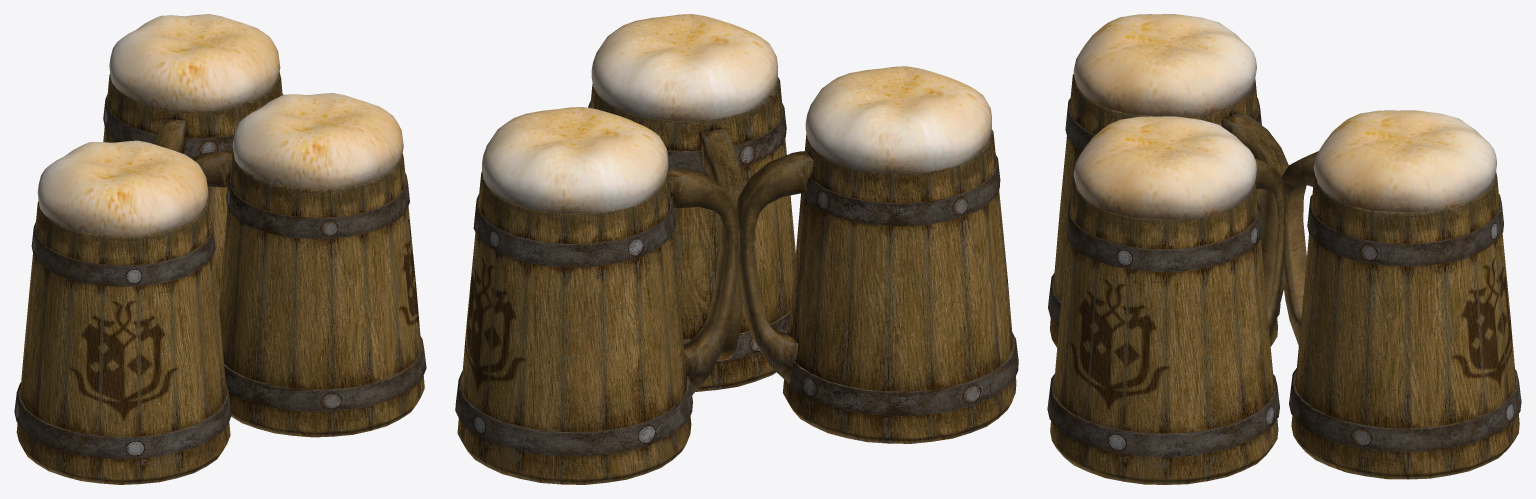
Rendered from sou033.obj.
3 renders of one model, left to right at view 1: azimuth 30°, elevation 25°; view 2: azimuth 150°, elevation 25°; view 3: azimuth 270°, elevation 25°, orthographic. The views are drawn at different scales.
Parts seen in each view (by area): view 1: sou033_000_LOD_1, sou033_003_LOD_1, sou033_007_LOD_1, sou033_001_LOD_1, sou033_004_LOD_1, sou033_006_LOD_1, sou033_008_LOD_1, sou033_002_LOD_1, sou033_005_LOD_1; view 2: sou033_006_LOD_1, sou033_000_LOD_1, sou033_003_LOD_1, sou033_001_LOD_1, sou033_007_LOD_1, sou033_004_LOD_1, sou033_002_LOD_1, sou033_005_LOD_1, sou033_008_LOD_1; view 3: sou033_006_LOD_1, sou033_003_LOD_1, sou033_004_LOD_1, sou033_007_LOD_1, sou033_001_LOD_1, sou033_000_LOD_1, sou033_005_LOD_1, sou033_002_LOD_1, sou033_008_LOD_1.
Part boxes in pixels (x1,y1,x2,y2): sou033_000_LOD_1: (14,199,231,484); sou033_003_LOD_1: (193,150,426,437); sou033_007_LOD_1: (109,14,280,104); sou033_001_LOD_1: (37,140,208,230); sou033_004_LOD_1: (233,93,403,182); sou033_006_LOD_1: (103,72,283,303); sou033_008_LOD_1: (109,66,280,111); sou033_002_LOD_1: (37,193,208,236); sou033_005_LOD_1: (233,147,403,188); sou033_006_LOD_1: (455,167,740,484); sou033_000_LOD_1: (736,129,1018,443); sou033_003_LOD_1: (588,76,795,391); sou033_001_LOD_1: (805,66,991,163); sou033_007_LOD_1: (482,107,668,204); sou033_004_LOD_1: (591,14,777,111); sou033_002_LOD_1: (805,127,991,173); sou033_005_LOD_1: (591,75,777,120); sou033_008_LOD_1: (482,167,668,213); sou033_006_LOD_1: (1281,151,1521,479); sou033_003_LOD_1: (1047,158,1285,484); sou033_004_LOD_1: (1073,116,1256,209); sou033_007_LOD_1: (1313,110,1496,203); sou033_001_LOD_1: (1073,14,1256,106); sou033_000_LOD_1: (1048,74,1288,347); sou033_005_LOD_1: (1073,170,1256,219); sou033_002_LOD_1: (1073,68,1256,116); sou033_008_LOD_1: (1313,165,1496,212).
Bounding box in the file's own units: 50.64 × 35.5 × 50.64.
